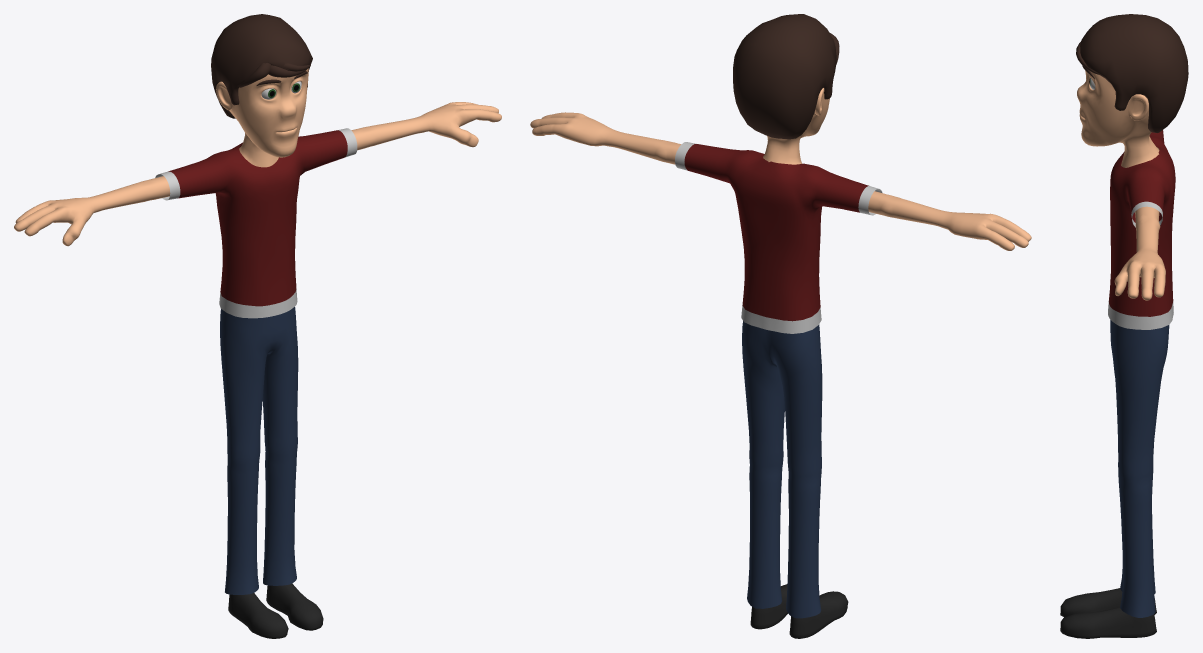
The model's file is Porl.obj.
3 renders of one model, left to right at view 1: azimuth 30°, elevation 25°; view 2: azimuth 150°, elevation 25°; view 3: azimuth 270°, elevation 25°, orthographic. The views are drawn at different scales.
Parts seen in each view (by area): view 1: Pants_Plane.021, T-Shirt_Plane.023, Character_Mesh_Plane.001, Hair1_Cube.003, Hair2_Circle.011; view 2: Pants_Plane.021, T-Shirt_Plane.023, Character_Mesh_Plane.001, Hair1_Cube.003; view 3: Pants_Plane.021, Character_Mesh_Plane.001, Hair1_Cube.003, T-Shirt_Plane.023.
Part boxes in pixels (x1,y1,x2,y2): Pants_Plane.021: [220, 307, 298, 594]; T-Shirt_Plane.023: [155, 128, 357, 318]; Character_Mesh_Plane.001: [14, 68, 501, 638]; Hair1_Cube.003: [211, 14, 312, 118]; Hair2_Circle.011: [239, 62, 310, 87]; Pants_Plane.021: [742, 321, 822, 618]; T-Shirt_Plane.023: [675, 142, 882, 333]; Character_Mesh_Plane.001: [530, 88, 1031, 638]; Hair1_Cube.003: [733, 14, 836, 139]; Pants_Plane.021: [1110, 320, 1169, 617]; Character_Mesh_Plane.001: [1060, 65, 1165, 638]; Hair1_Cube.003: [1080, 14, 1188, 132]; T-Shirt_Plane.023: [1108, 130, 1175, 329].
Size of the model in its own units: 6.03 by 7.02 by 1.35.
